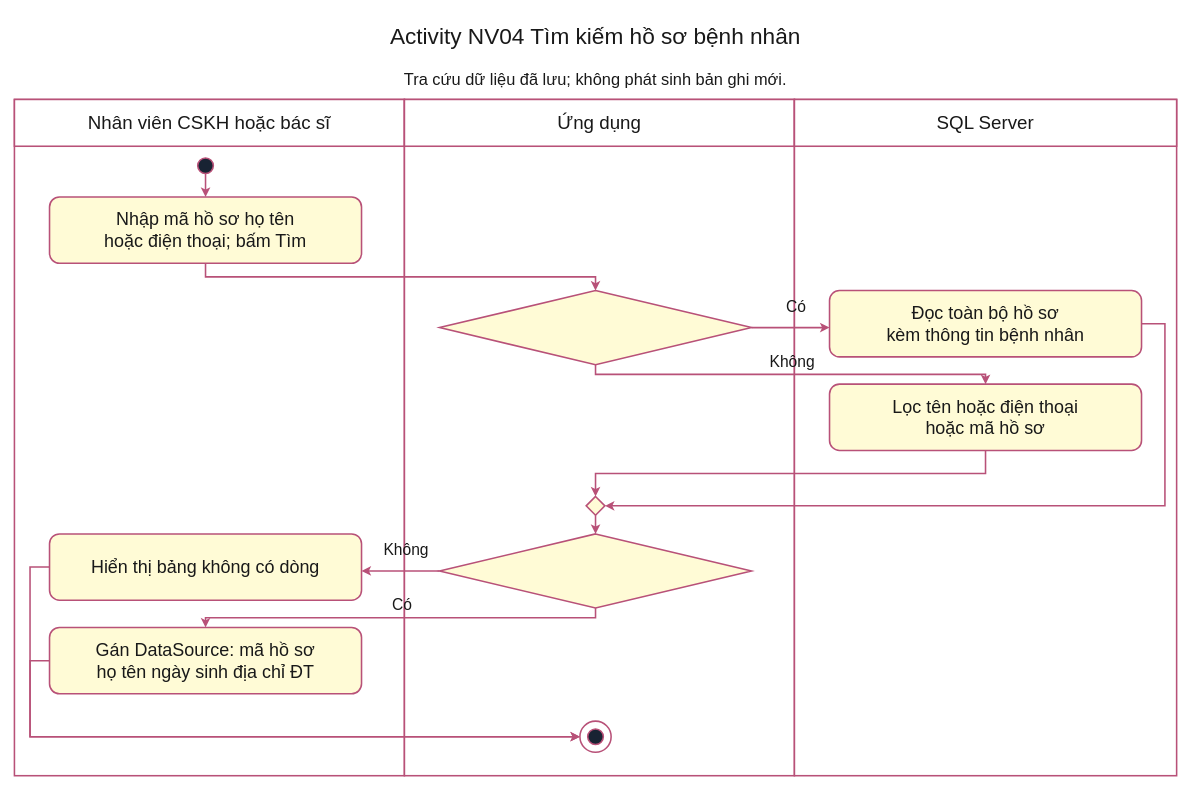
Image size: 1190x789. Some labels were removed from this diagram. The centre of each missing label's shape, as x and y in pixels:
"Có hồ sơ phù hợp?" goes at point (595, 570).
"Từ khóa rỗng?" goes at point (595, 327).
